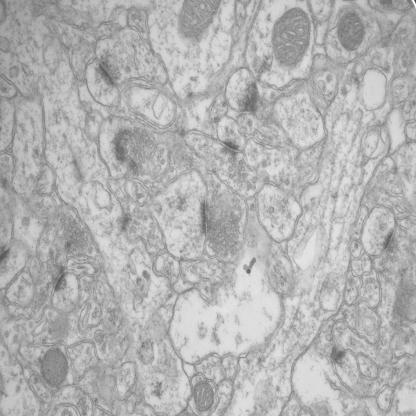mitochondria: (270, 8, 310, 68), (179, 0, 222, 41), (336, 11, 366, 51), (41, 347, 68, 389), (192, 381, 214, 412)
